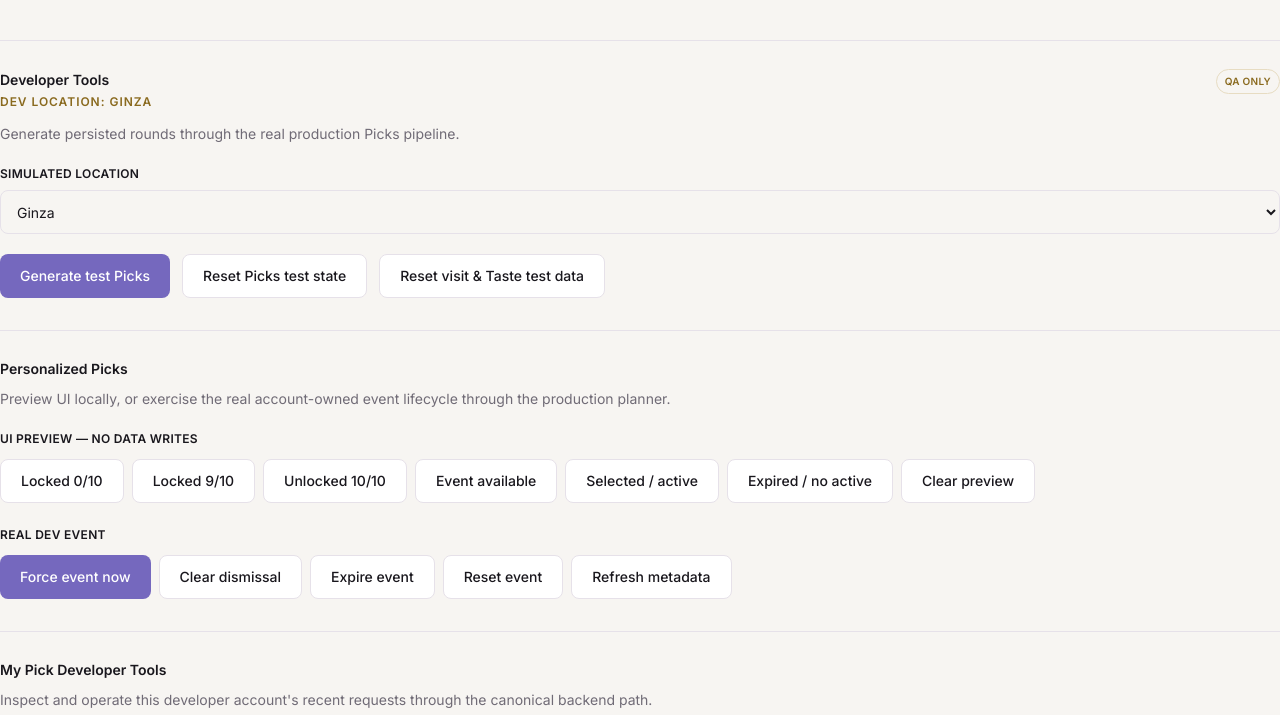
DeveloperTools › confirms visit and Taste reset in an app dialog and refreshes account caches
Click the button "Reset visit & Taste test data". click: {"x": 492, "y": 276}
box: [379,254,605,298]
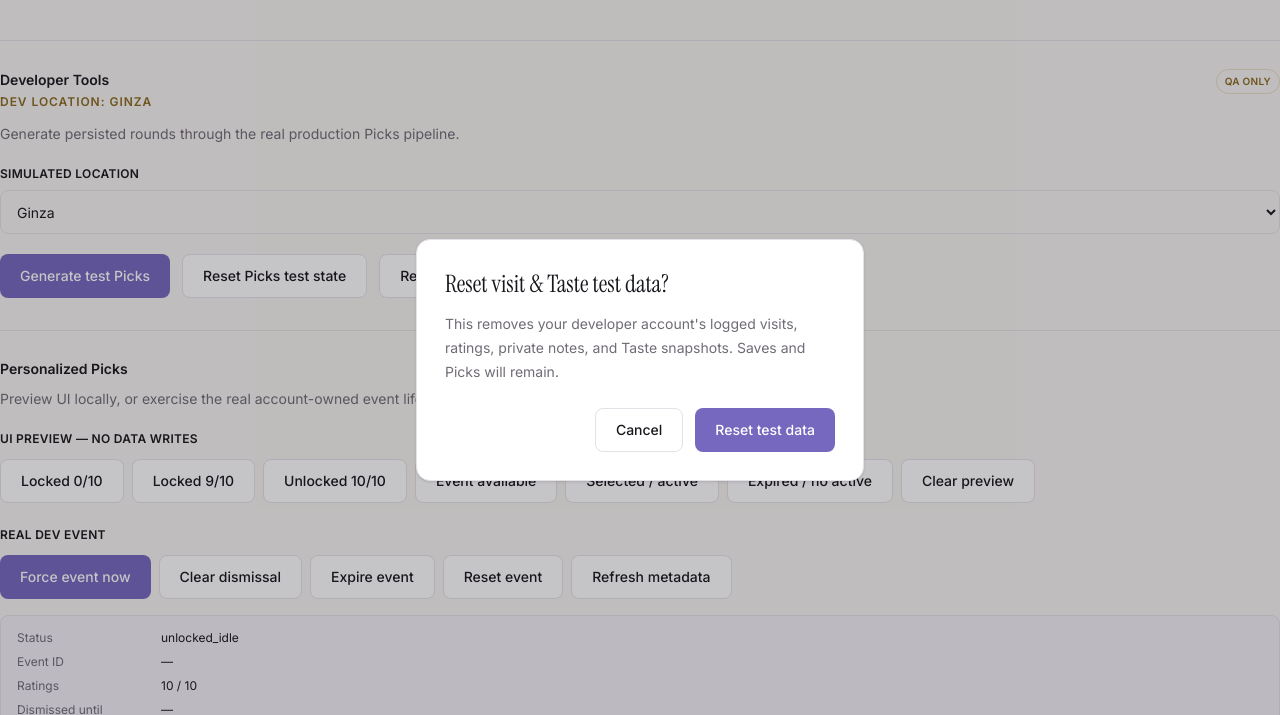
Expected: the dialog "Reset visit & Taste test data?" is shown, [416,239,864,481]
Click the button "Reset test data". click: {"x": 765, "y": 430}
box: [695,408,835,452]
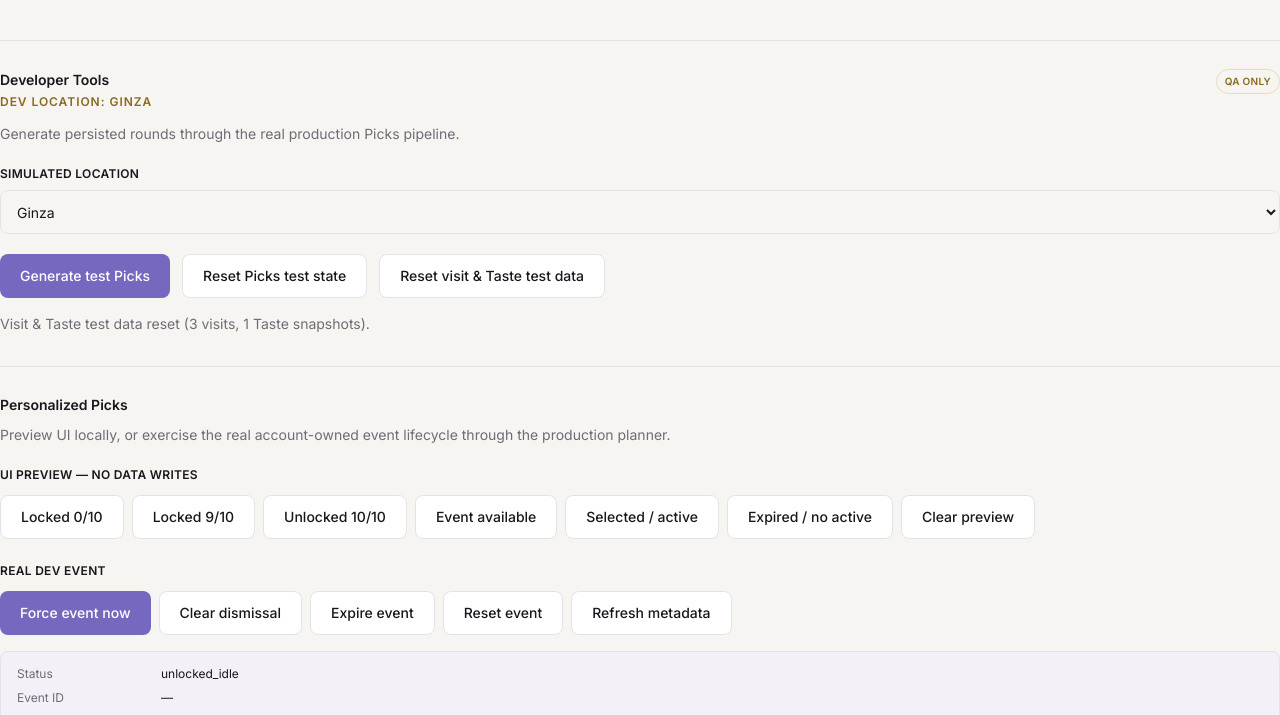
Expected: the text "Visit & Taste test data reset (3 visits, 1 Taste snapshots)." is shown, [0,315,370,332]
Expected: the dialog is gone
